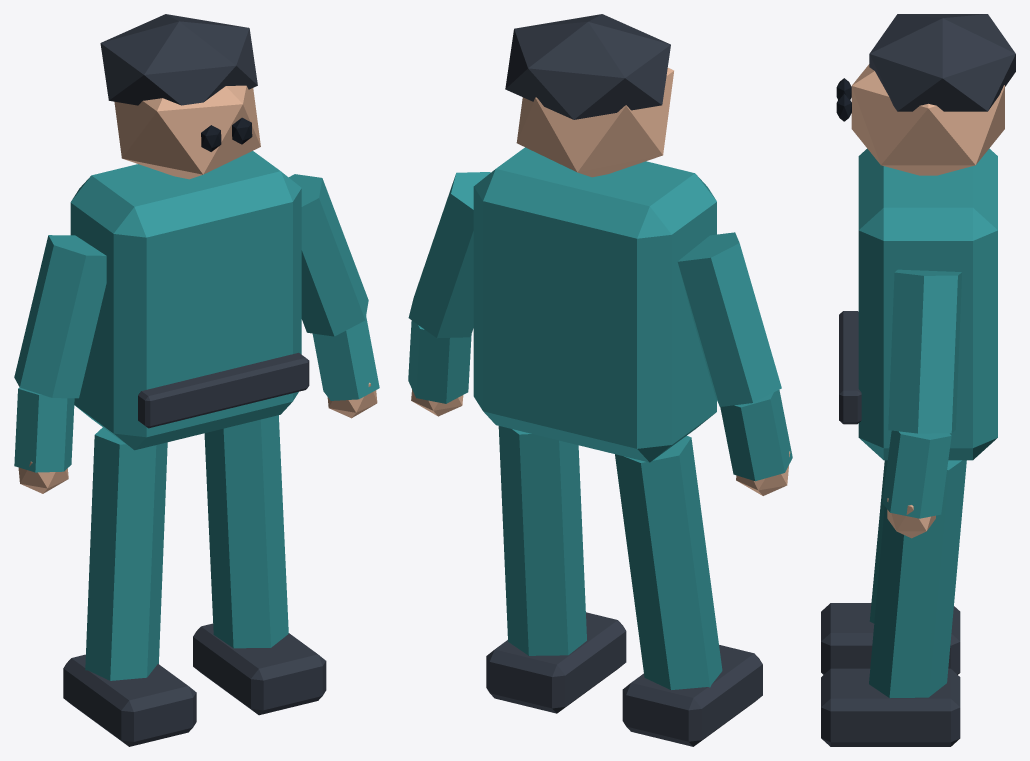
The model's file is npcs_016_seed11.glb.
3 views of the same model, side by side, from view 1: azimuth 30°, elevation 25°; view 2: azimuth 150°, elevation 25°; view 3: azimuth 270°, elevation 25° (orthographic). The views are drawn at different scales.
Visible parts, largest first — view 1: npcs_016_seed11; view 2: npcs_016_seed11; view 3: npcs_016_seed11.
Part boxes in pixels (x1,y1,x2,y2): npcs_016_seed11: (14, 14, 379, 746); npcs_016_seed11: (408, 14, 792, 746); npcs_016_seed11: (821, 14, 1015, 746).
Size of the model in its own units: 1.03 by 1.81 by 0.4668.
